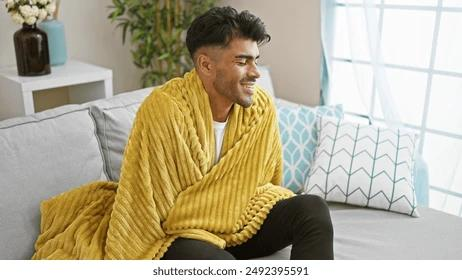blanket: (29, 67, 297, 261)
trousers: (158, 193, 336, 260)
